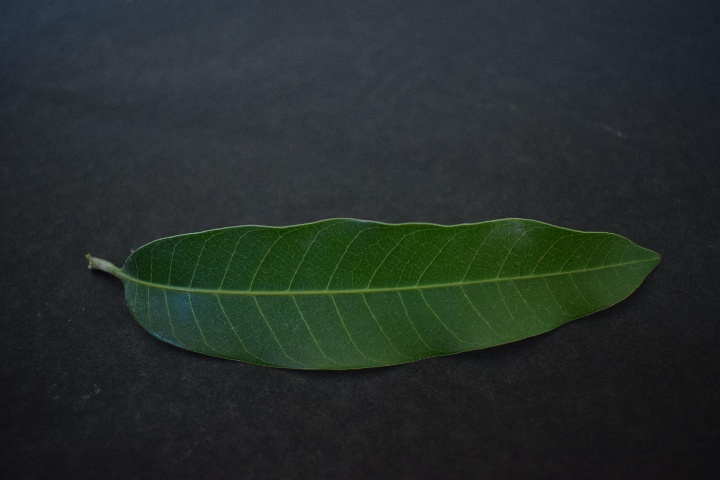healthy: (96, 207, 653, 372)
